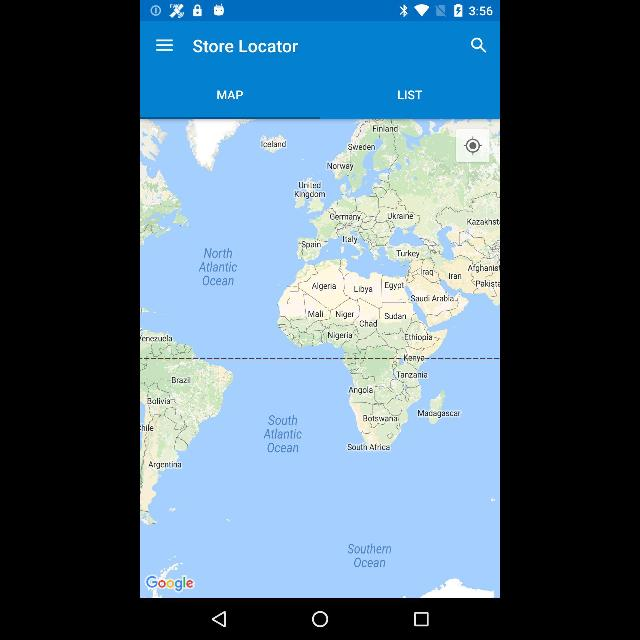icon: (210, 607, 227, 629), (154, 38, 176, 54), (470, 36, 488, 54), (412, 610, 430, 628), (310, 611, 328, 627), (466, 139, 480, 155)
map: (140, 119, 500, 597)
multitab: (140, 70, 500, 118)
panel: (141, 598, 499, 640)
text: (192, 37, 298, 54)
toolbar: (140, 19, 500, 69)
uppertaskbar: (140, 0, 498, 18)
